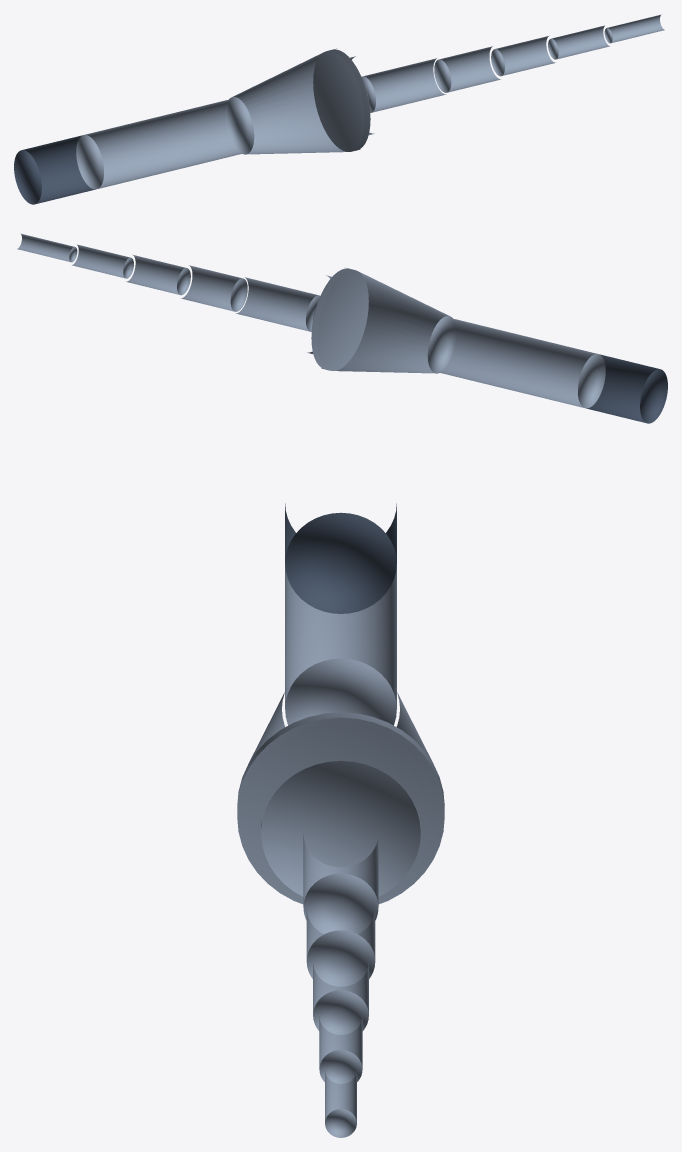
File: modelo.glb
The picture shows the model from 3 angles, top to bottom: view 1: azimuth 30°, elevation 25°; view 2: azimuth 150°, elevation 25°; view 3: azimuth 270°, elevation 25°; orthographic projection. The views are drawn at different scales.
Bounding box in the file's own units: 46 × 6.5 × 6.5.
